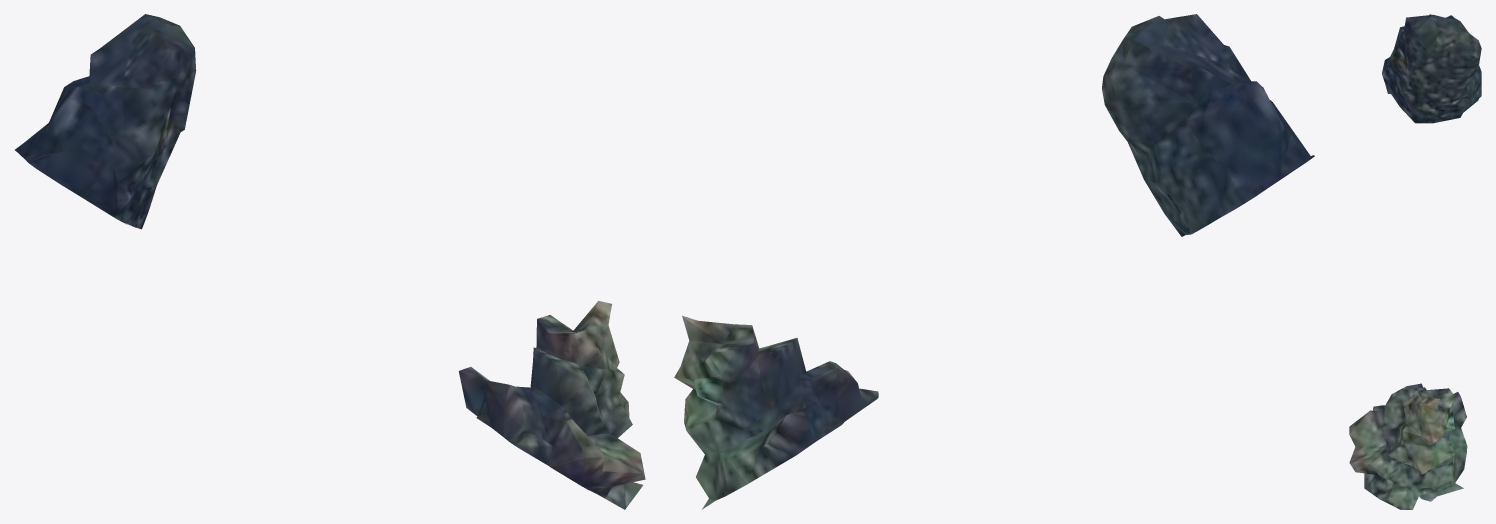
Rendered from AJVsH2xat-9XGNgUDjVih50SJ9YbcMu3sckpLUrRMbYN7YCVqD4upl8CcZfWMhaClrNwoob_D6ceXnY5ClBX0or-e1Zt5ioqvdmpg3QX2U6Q_fjD-pbzPipW6FyyKAWR7Wwr1gBqI1tyhBh6I4kZmO0vLsy6E9nSetjLv43r9Khh6OVcLrlF_21fpsxRpu-E6A.glb.
The picture shows the model from 3 angles, left to right: view 1: azimuth 30°, elevation 25°; view 2: azimuth 150°, elevation 25°; view 3: azimuth 270°, elevation 25°; orthographic projection. The views are drawn at different scales.
Bounding box in the file's own units: 27.72 × 24.84 × 8.3.
Materials: 1 (1 with a texture image).
